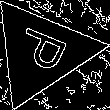P_SE: (8, 25, 74, 79)
